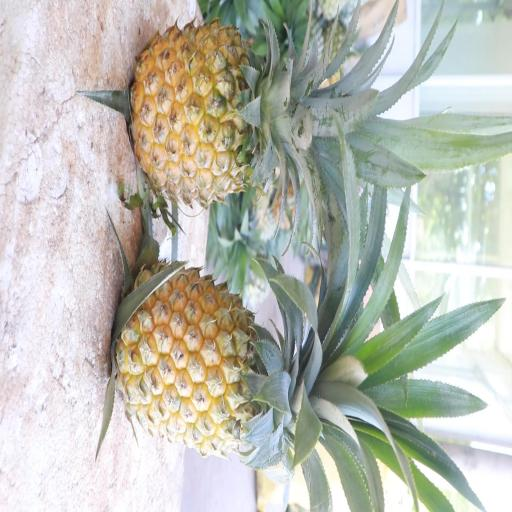Pineapple - v8 v1: (108, 258, 370, 464), (127, 16, 347, 212)
